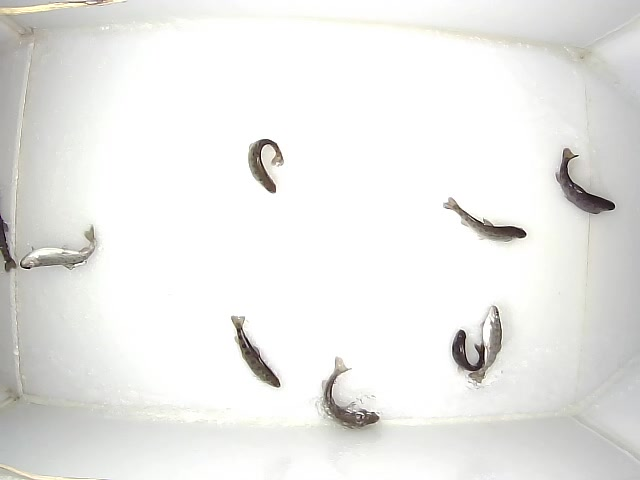fish: (322, 356, 380, 430), (555, 148, 615, 214), (443, 197, 527, 242), (231, 315, 281, 388), (20, 225, 96, 270), (468, 306, 502, 383), (248, 139, 284, 193), (452, 329, 485, 371), (1, 213, 17, 273)
